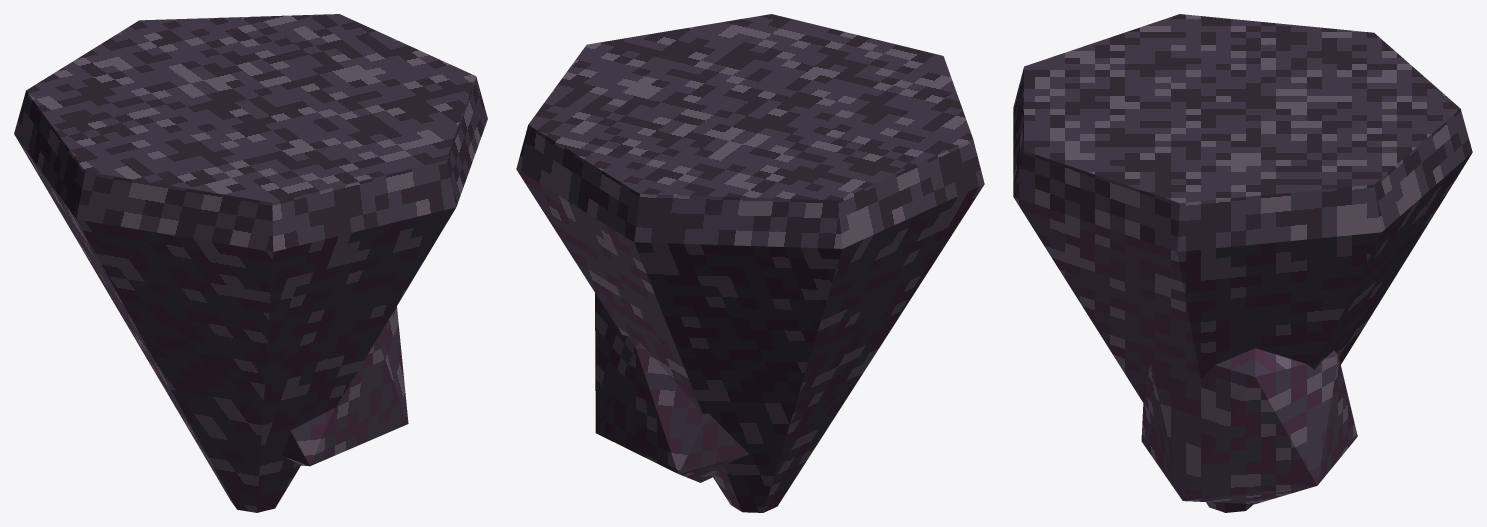
The model's file is a62_ilha_de_basalto.glb.
The picture shows the model from 3 angles, left to right: view 1: azimuth 30°, elevation 25°; view 2: azimuth 150°, elevation 25°; view 3: azimuth 270°, elevation 25°; orthographic projection.
Parts seen in each view (by area): view 1: a62_ilha_de_basalto; view 2: a62_ilha_de_basalto; view 3: a62_ilha_de_basalto.
Part boxes in pixels (x1,y1,x2,y2): a62_ilha_de_basalto: [14, 14, 487, 512]; a62_ilha_de_basalto: [516, 14, 984, 512]; a62_ilha_de_basalto: [1013, 14, 1472, 512].
Size of the model in its own units: 1.95 by 1.8 by 1.9.
Materials: 2 (2 with a texture image).
